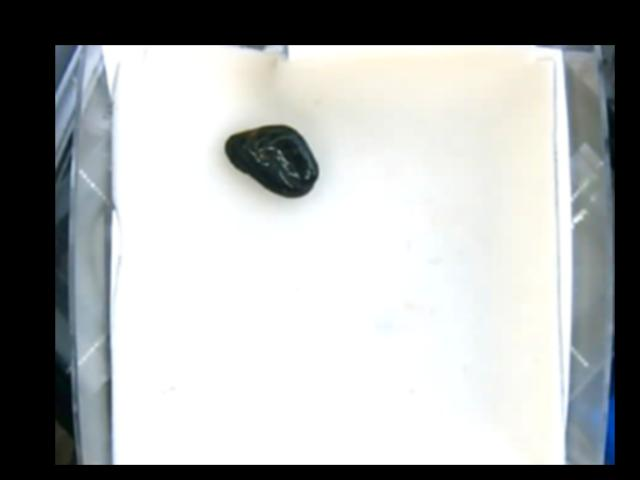Pebble: (223, 124, 320, 196)
